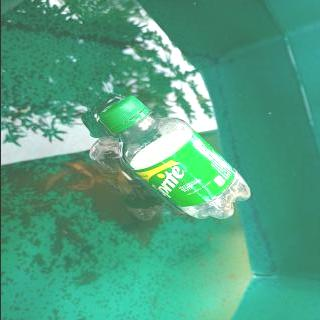bottle: (95, 94, 252, 220)
